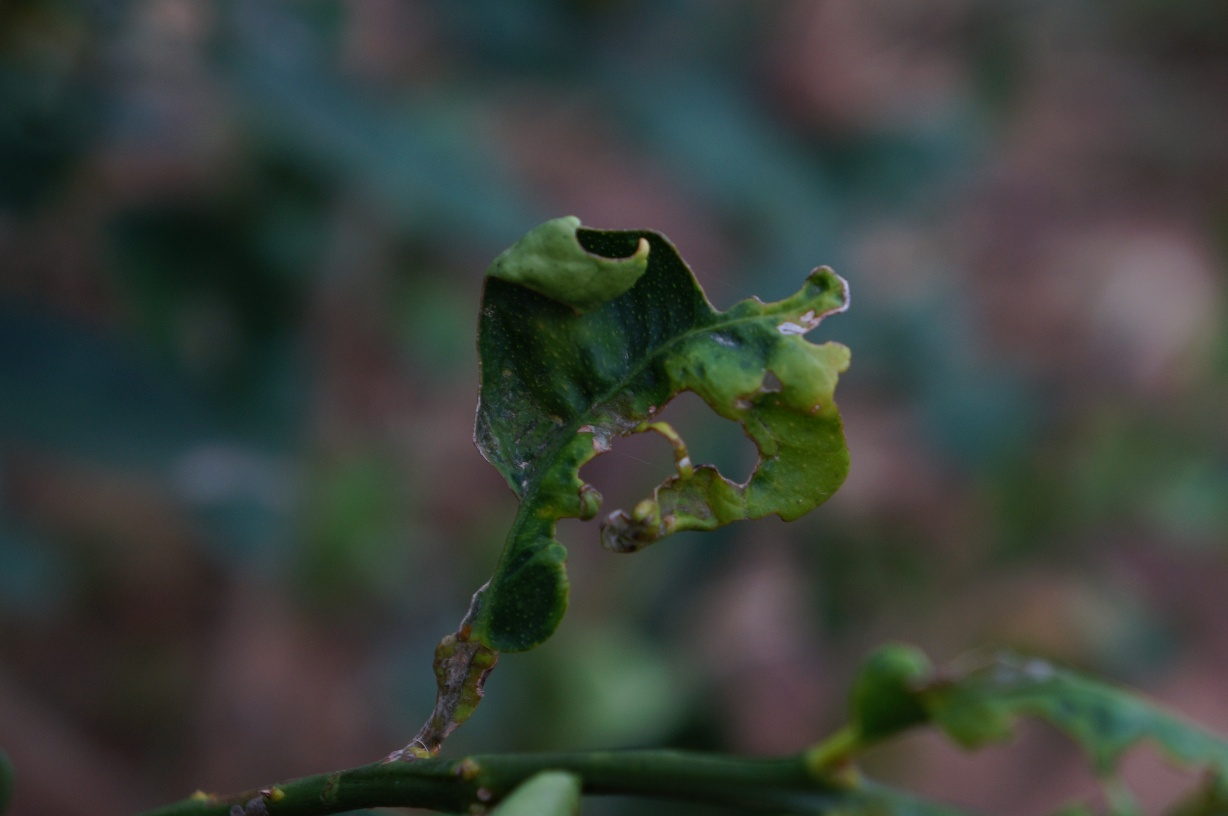damage: (395, 210, 860, 760)
